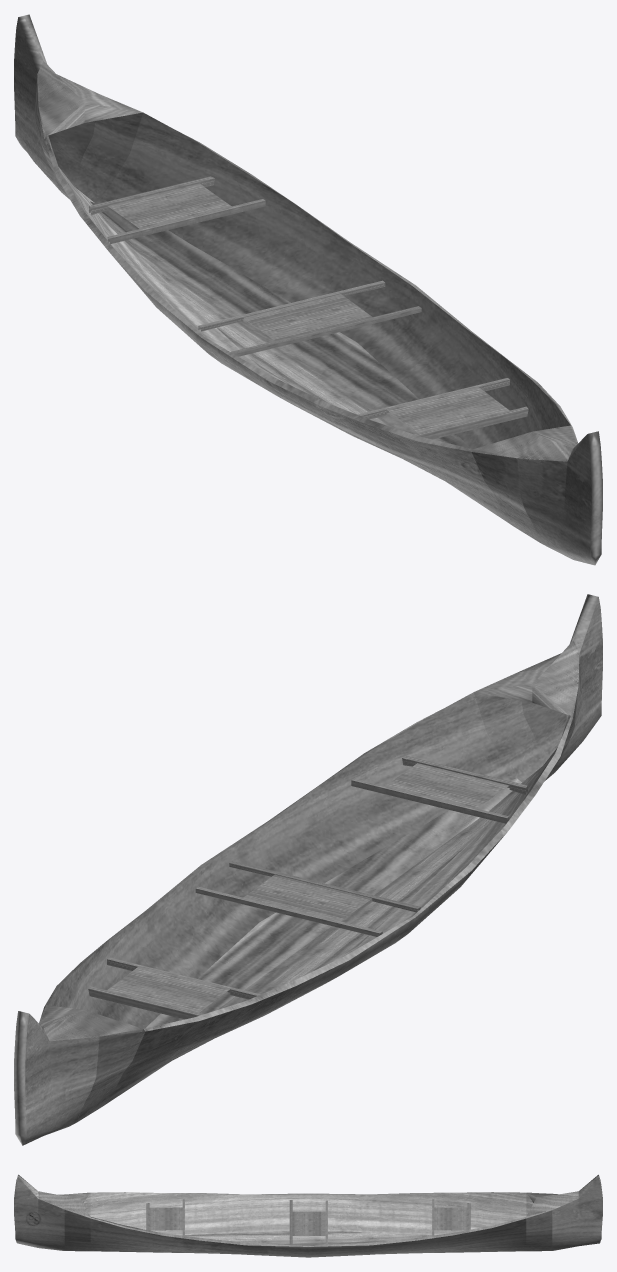
Rendered from canoe.glb.
The picture shows the model from 3 angles, top to bottom: view 1: azimuth 30°, elevation 25°; view 2: azimuth 150°, elevation 25°; view 3: azimuth 270°, elevation 25°; orthographic projection. The views are drawn at different scales.
Parts seen in each view (by area): view 1: Boat_Shell, seat2, Seat5, Seat3; view 2: Boat_Shell, seat2, Seat3, Seat5; view 3: Boat_Shell, seat2, Seat3, Seat5.
Boxes of the visible parts, <box> form: Boat_Shell: <box>14,14,602,565</box>; seat2: <box>198,280,421,356</box>; Seat5: <box>89,176,265,243</box>; Seat3: <box>357,378,528,439</box>; Boat_Shell: <box>14,594,602,1145</box>; seat2: <box>195,861,420,936</box>; Seat3: <box>351,756,527,823</box>; Seat5: <box>88,957,260,1019</box>; Boat_Shell: <box>14,1174,602,1257</box>; seat2: <box>289,1200,327,1245</box>; Seat3: <box>146,1199,184,1235</box>; Seat5: <box>432,1199,470,1235</box>.
Bounding box in the file's own units: 0.429 × 0.2821 × 2.
Materials: 1 (1 with a texture image).
